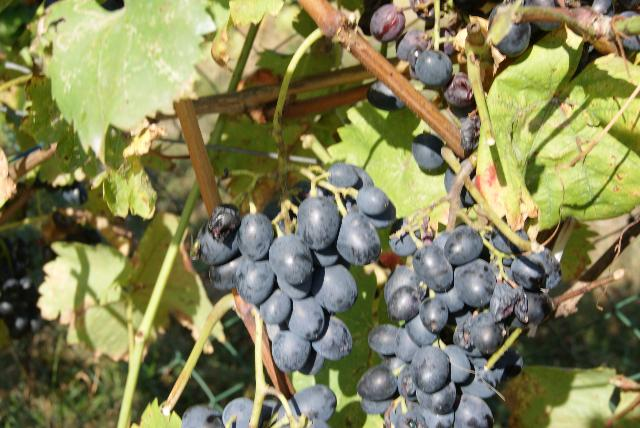grapes: (358, 225, 561, 428), (194, 166, 388, 375)
